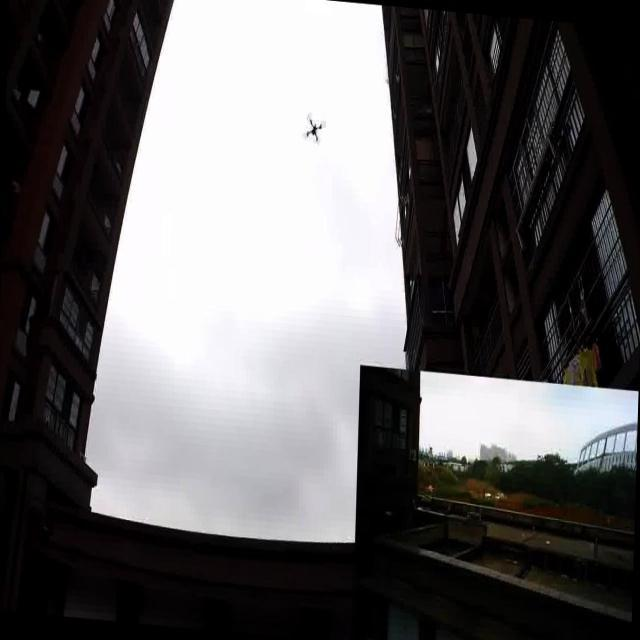drone: (300, 107, 328, 147)
